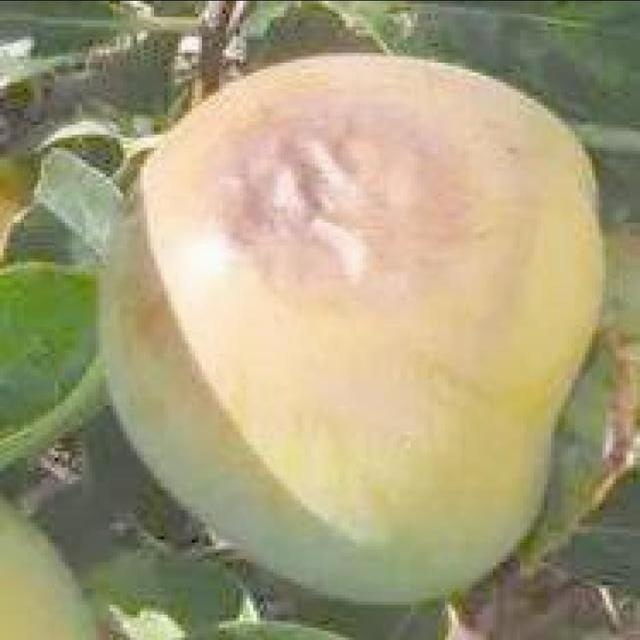Sunscald Fruit: (100, 64, 326, 225)
